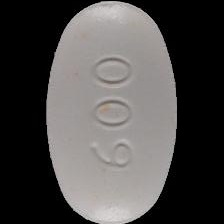63824-057: (0, 0, 224, 224)
